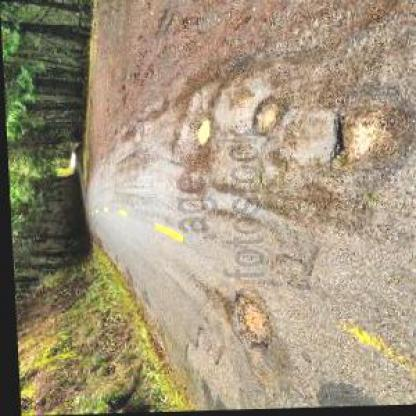pothole: (324, 108, 386, 171), (226, 290, 270, 352), (247, 97, 288, 137), (192, 116, 212, 147)
